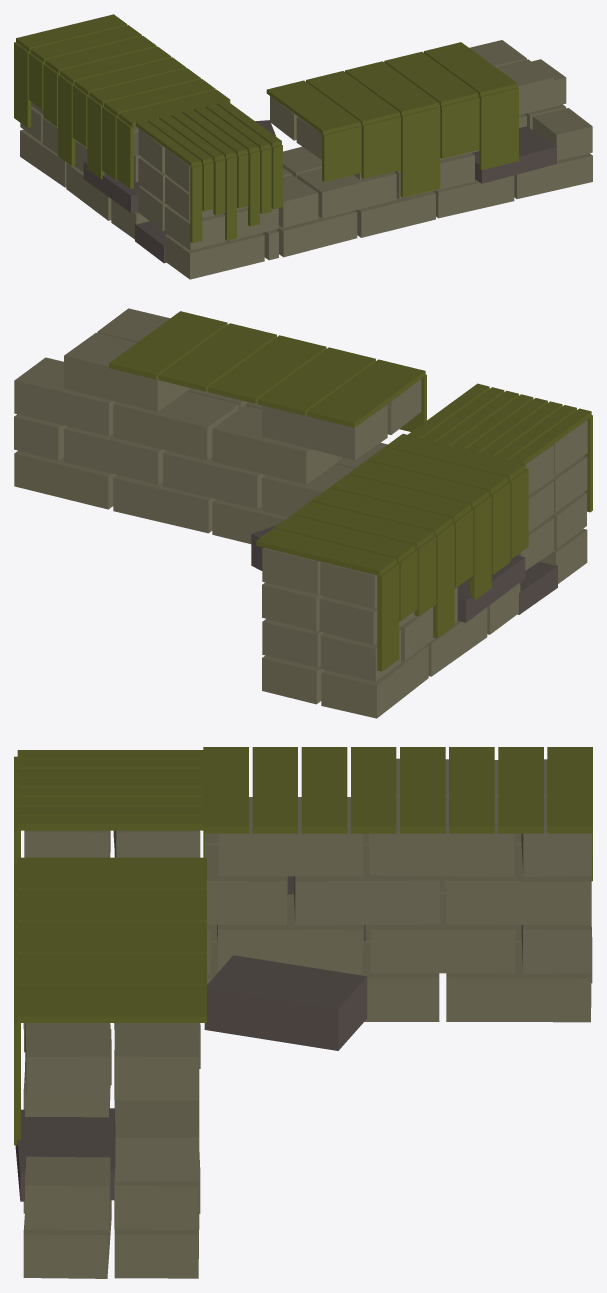
File: SM_PretilEsquinaPaso_v4_Red_e1_Danado_LOD0.fbx
The picture shows the model from 3 angles, top to bottom: view 1: azimuth 30°, elevation 25°; view 2: azimuth 150°, elevation 25°; view 3: azimuth 270°, elevation 25°; orthographic projection. The views are drawn at different scales.
Parts seen in each view (by area): view 1: SM_pretil_azotea_v57_LOD0; view 2: SM_pretil_azotea_v57_LOD0; view 3: SM_pretil_azotea_v57_LOD0.
Part boxes in pixels (<box>): SM_pretil_azotea_v57_LOD0: <box>14,14,592,279</box>; SM_pretil_azotea_v57_LOD0: <box>14,308,592,718</box>; SM_pretil_azotea_v57_LOD0: <box>14,747,592,1278</box>.
Bounding box in the file's own units: 4.44 × 1.24 × 3.24.
